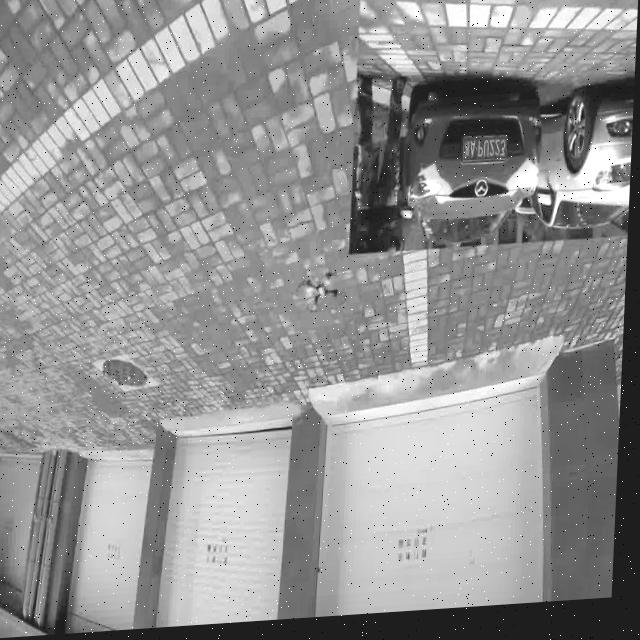drone: (298, 271, 352, 326)
